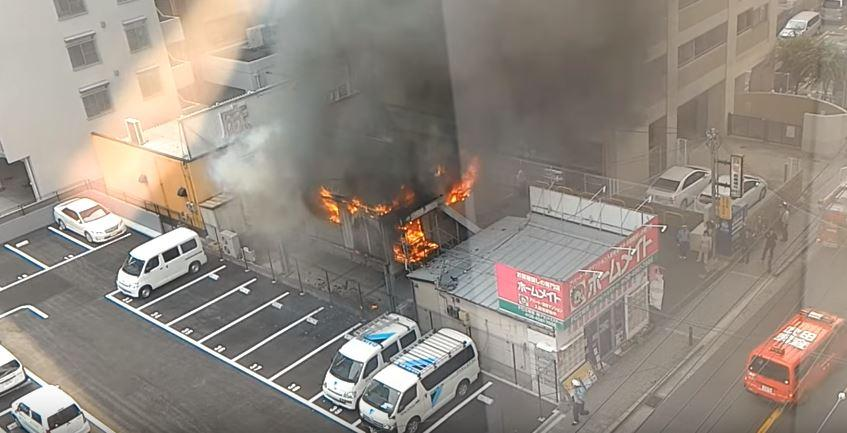fire: (444, 173, 488, 207), (321, 187, 363, 218), (400, 221, 428, 258)
smoke: (303, 4, 633, 100)
